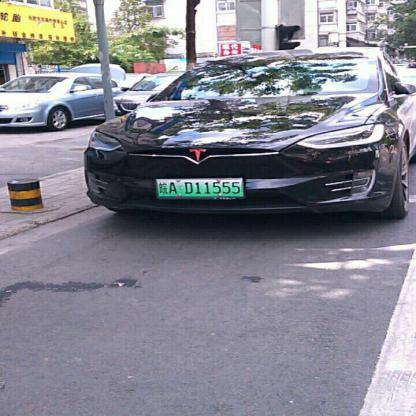lp: (157, 178, 243, 196)
